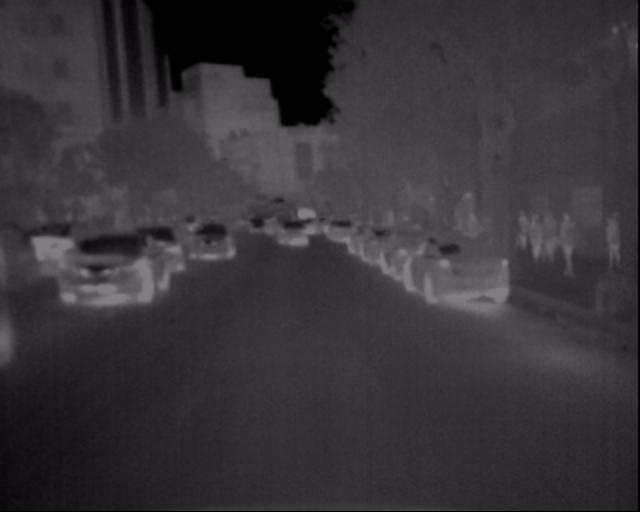person: (554, 201, 586, 286), (524, 204, 549, 269), (537, 204, 564, 264), (464, 207, 484, 256)
